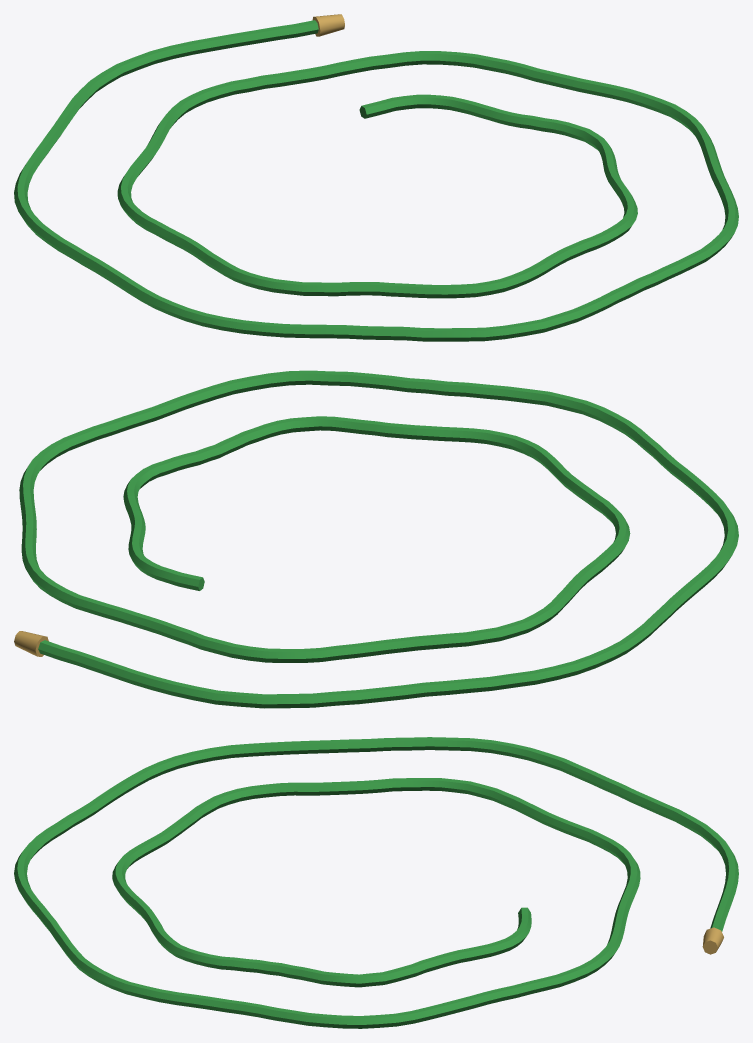
Rendered from hose_spiral.glb.
The picture shows the model from 3 angles, top to bottom: view 1: azimuth 30°, elevation 25°; view 2: azimuth 150°, elevation 25°; view 3: azimuth 270°, elevation 25°; orthographic projection. The views are drawn at different scales.
Parts seen in each view (by area): view 1: hose_spiral; view 2: hose_spiral; view 3: hose_spiral.
Boxes of the visible parts, x1,y1,x2,y2 form: hose_spiral: (14,14,738,341); hose_spiral: (14,370,738,708); hose_spiral: (14,737,738,1028).
Size of the model in its own units: 8.83 by 0.2719 by 9.5.
